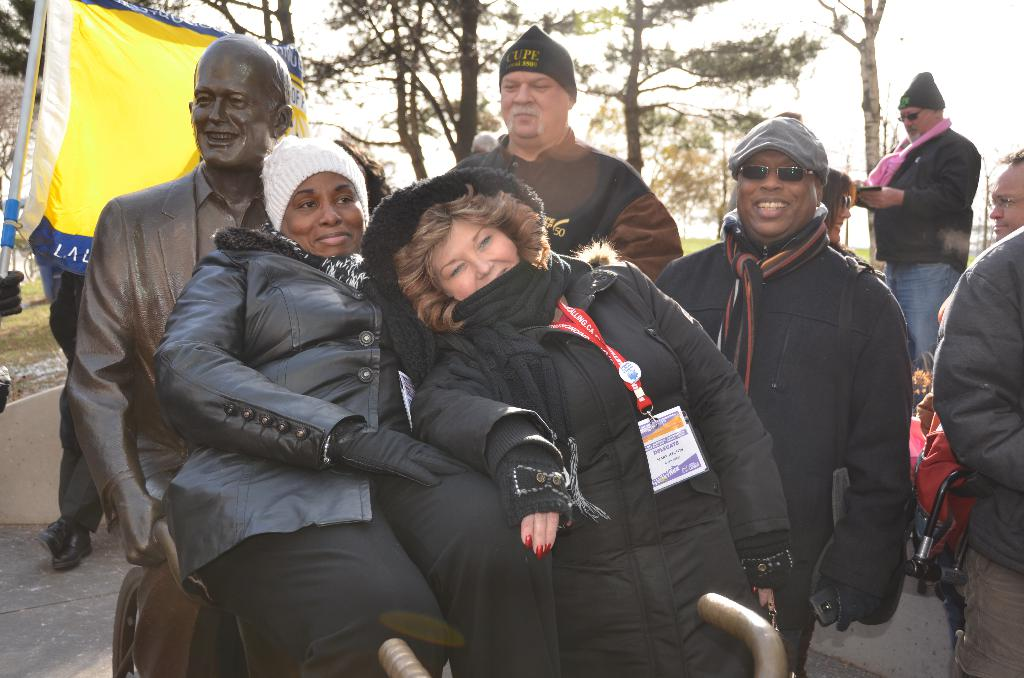Tree: (524, 0, 827, 175), (297, 0, 523, 194), (812, 0, 893, 175)
